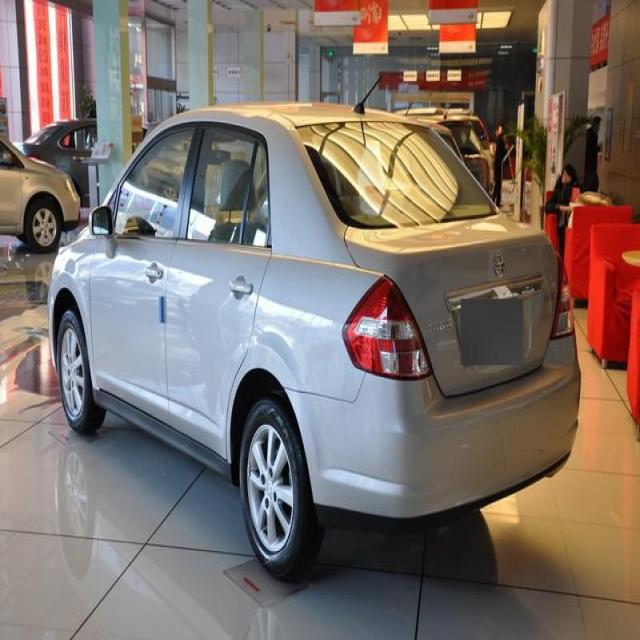back_glass: (295, 121, 500, 228)
back_left_side_light: (342, 271, 434, 381)
back_right_side_light: (550, 252, 576, 344)
door: (166, 130, 276, 432)
front_left_side_door: (88, 120, 200, 406)
front_left_side_mirror: (88, 204, 117, 244)
rear_bumper: (282, 332, 581, 519)
wheel: (238, 400, 307, 580), (57, 311, 104, 433)
